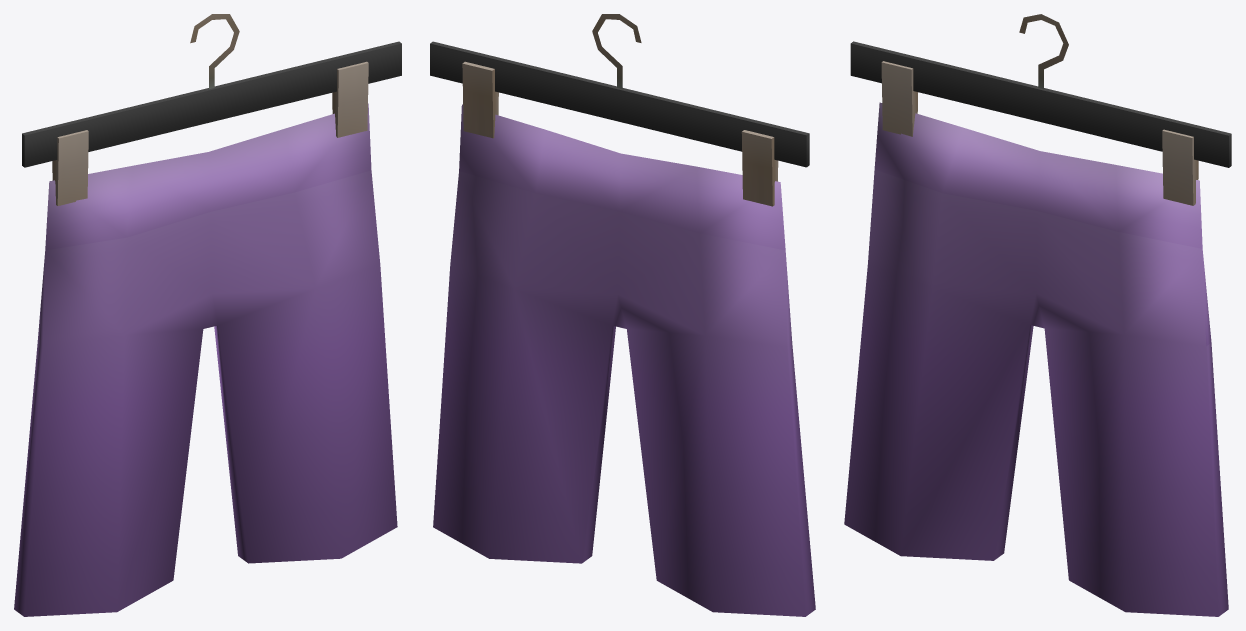
The model's file is Hang_Pants_05.FBX.
3 views of the same model, side by side, from view 1: azimuth 30°, elevation 25°; view 2: azimuth 150°, elevation 25°; view 3: azimuth 330°, elevation 25° (orthographic).
Parts seen in each view (by area): view 1: Hang_Pants_05; view 2: Hang_Pants_05; view 3: Hang_Pants_05.
Boxes of the visible parts, x1,y1,x2,y2 form: Hang_Pants_05: (14, 14, 401, 616); Hang_Pants_05: (430, 14, 815, 616); Hang_Pants_05: (844, 14, 1231, 616).
Size of the model in its own units: 0.4494 by 0.0961 by 0.625.
